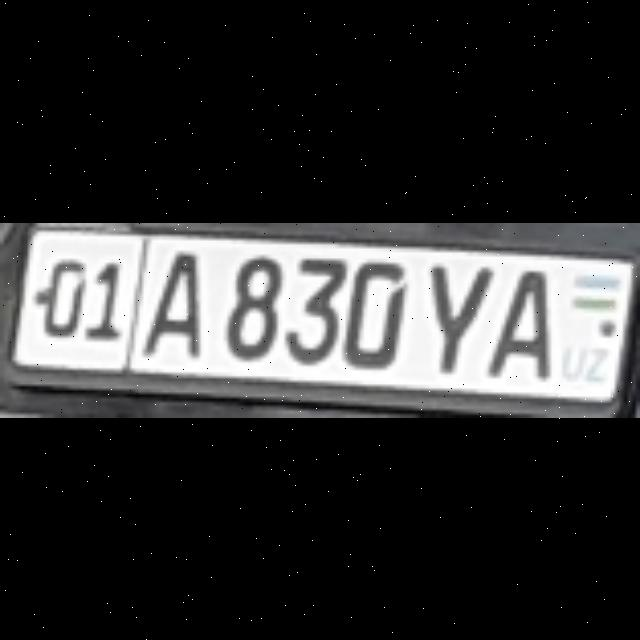0: (342, 259, 400, 365), (36, 250, 78, 332)
1: (86, 258, 114, 336)
3: (282, 255, 338, 361)
8: (224, 255, 274, 353)
A: (489, 267, 546, 373), (143, 250, 200, 352)
Y: (424, 259, 486, 369)
